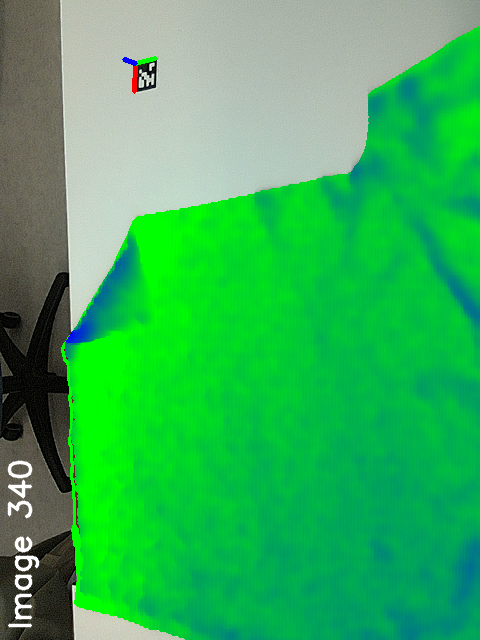V: (117, 287, 162, 340)
